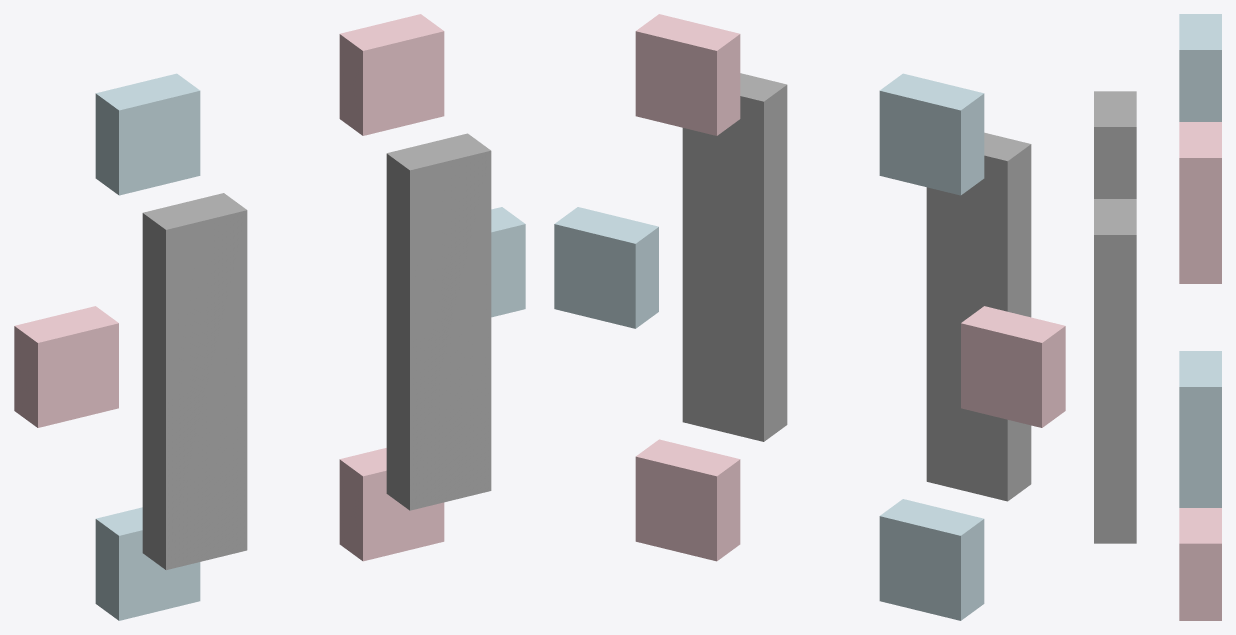
Rendered from board.glb.
3 views of the same model, side by side, from view 1: azimuth 30°, elevation 25°; view 2: azimuth 150°, elevation 25°; view 3: azimuth 270°, elevation 25° (orthographic). The views are drawn at different scales.
Visible parts, largest first — view 1: Substrate_Layer_4, Substrate_Layer_0, Substrate_Layer_2, Substrate_Layer_6, Substrate_Layer_3, Substrate_Layer_5, Substrate_Layer_1, Substrate_Layer_7; view 2: Substrate_Layer_4, Substrate_Layer_0, Substrate_Layer_2, Substrate_Layer_5, Substrate_Layer_1, Substrate_Layer_6, Substrate_Layer_3, Substrate_Layer_7; view 3: Substrate_Layer_4, Substrate_Layer_5, Substrate_Layer_6, Substrate_Layer_7, Substrate_Layer_0, Substrate_Layer_2, Substrate_Layer_3, Substrate_Layer_1.
Part boxes in pixels (x1,y1,x2,y2): Substrate_Layer_4: (386,133,491,510); Substrate_Layer_0: (142,193,247,570); Substrate_Layer_2: (95,73,200,195); Substrate_Layer_6: (339,14,444,135); Substrate_Layer_3: (14,306,118,427); Substrate_Layer_5: (339,448,444,561); Substrate_Layer_1: (95,507,200,620); Substrate_Layer_7: (491,207,525,317); Substrate_Layer_4: (682,73,787,441); Substrate_Layer_0: (926,132,1031,501); Substrate_Layer_2: (879,73,984,195); Substrate_Layer_5: (635,439,740,561); Substrate_Layer_1: (879,499,984,620); Substrate_Layer_6: (635,14,740,135); Substrate_Layer_3: (961,306,1065,427); Substrate_Layer_7: (554,207,658,328); Substrate_Layer_4: (1094,199,1136,543); Substrate_Layer_5: (1179,508,1221,620); Substrate_Layer_6: (1179,122,1221,234); Substrate_Layer_7: (1179,351,1221,463); Substrate_Layer_0: (1094,91,1136,198); Substrate_Layer_2: (1179,14,1221,121); Substrate_Layer_3: (1179,235,1221,283); Substrate_Layer_1: (1179,464,1221,507).
Bounding box in the file's own units: 0.0012 × 0.0012 × 0.0003.
